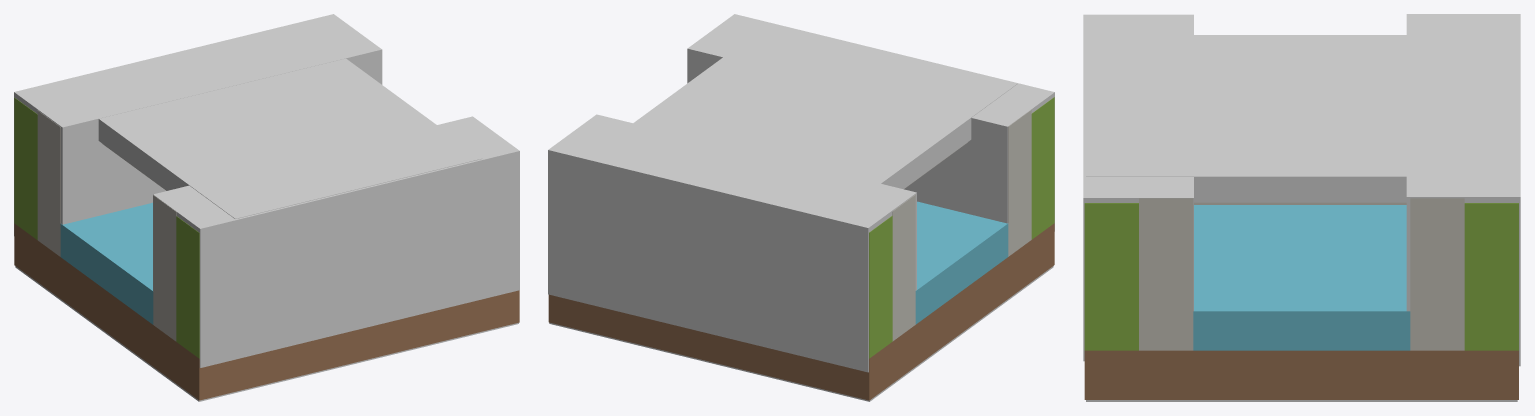
File: map_road_bridge_canal.gltf
3 renders of one model, left to right at view 1: azimuth 30°, elevation 25°; view 2: azimuth 150°, elevation 25°; view 3: azimuth 270°, elevation 25°, orthographic. The views are drawn at different scales.
Parts seen in each view (by area): view 1: COL4, road-bridge-canal_Cube.210, COL2, COL3, COL1; view 2: COL3, road-bridge-canal_Cube.210, COL2, COL4, COL1; view 3: road-bridge-canal_Cube.210, COL2, COL3, COL4, COL1.
Part boxes in pixels (x1,y1,x2,y2): COL4: (153, 116, 519, 367); road-bridge-canal_Cube.210: (14, 97, 519, 400); COL2: (98, 58, 482, 218); COL3: (14, 14, 382, 235); COL1: (15, 266, 518, 401); COL3: (548, 114, 916, 372); road-bridge-canal_Cube.210: (548, 97, 1054, 400); COL2: (633, 23, 1017, 189); COL4: (687, 14, 1054, 231); COL1: (549, 266, 1053, 401); road-bridge-canal_Cube.210: (1084, 198, 1518, 399); COL2: (1086, 35, 1406, 202); COL3: (1406, 14, 1520, 366); COL4: (1083, 14, 1193, 361); COL1: (1086, 400, 1517, 401).
Size of the model in its own units: 8 by 4.16 by 8.06.
1 material, 1 textured.
